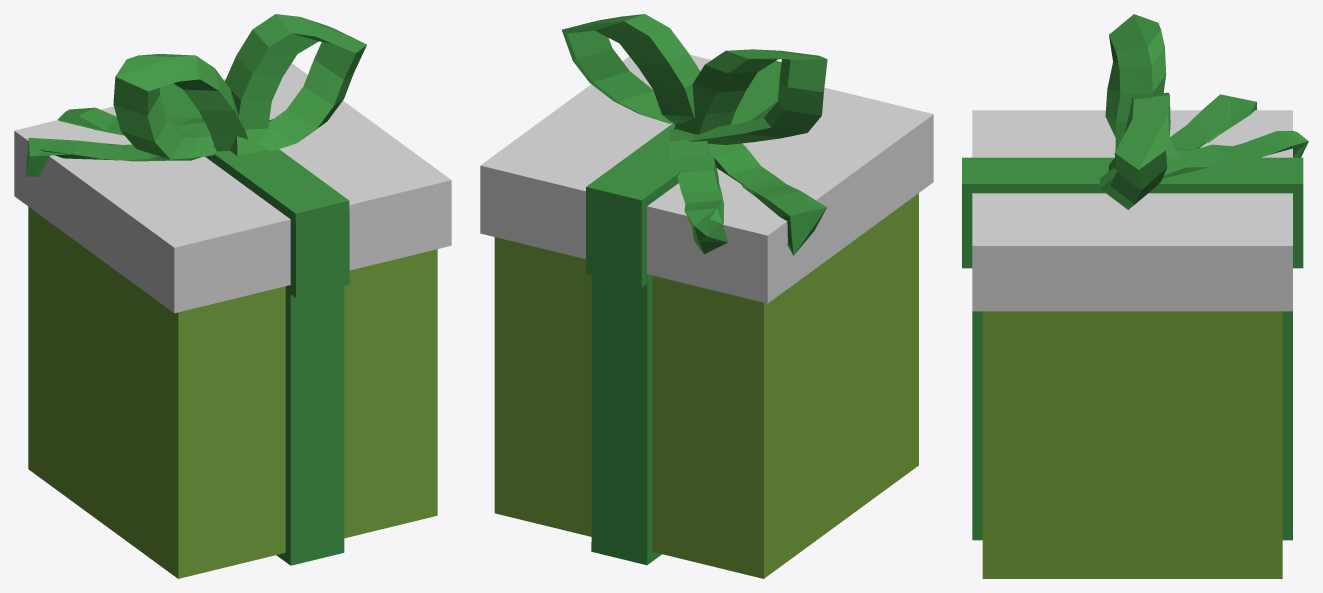
File: present_4.gltf
3 renders of one model, left to right at view 1: azimuth 30°, elevation 25°; view 2: azimuth 150°, elevation 25°; view 3: azimuth 270°, elevation 25°, orthographic. The views are drawn at different scales.
Parts seen in each view (by area): view 1: node_MeshObject-23165952-PolyPaper21; view 2: node_MeshObject-23165952-PolyPaper21; view 3: node_MeshObject-23165952-PolyPaper21.
Boxes of the visible parts, x1=… form: node_MeshObject-23165952-PolyPaper21: x1=14, y1=14, x2=451, y2=578; node_MeshObject-23165952-PolyPaper21: x1=480, y1=14, x2=933, y2=578; node_MeshObject-23165952-PolyPaper21: x1=962, y1=14, x2=1308, y2=578.
Bounding box in the file's own units: 0.3334 × 0.4905 × 0.3353.
